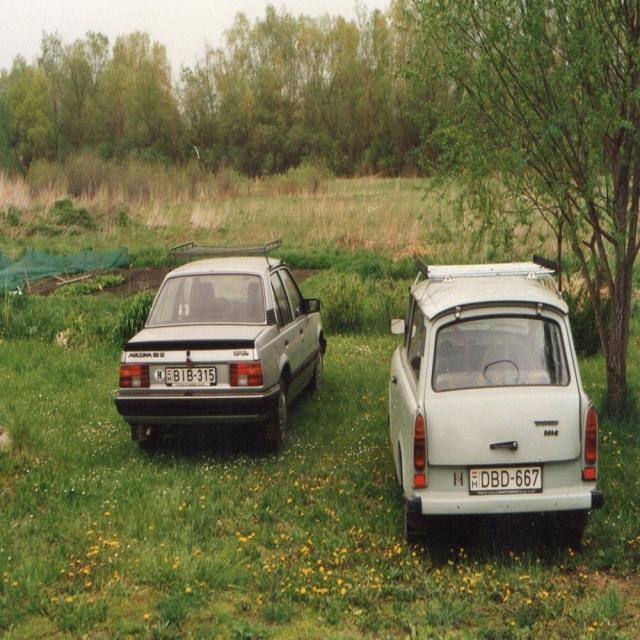licence: (466, 462, 546, 497), (164, 363, 218, 387)
